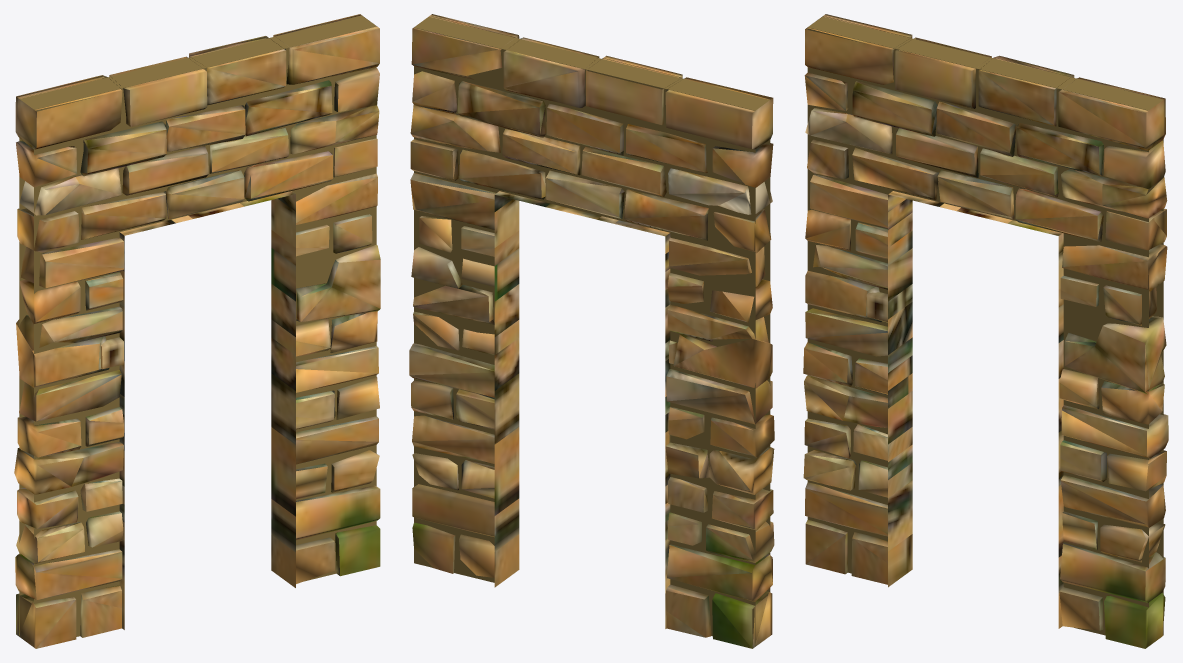
Rendered from wall-stone-door.lod1.glb.
3 renders of one model, left to right at view 1: azimuth 30°, elevation 25°; view 2: azimuth 150°, elevation 25°; view 3: azimuth 330°, elevation 25°, orthographic.
Size of the model in its own units: 2 by 3 by 0.25.
Materials: 1 (1 with a texture image).
